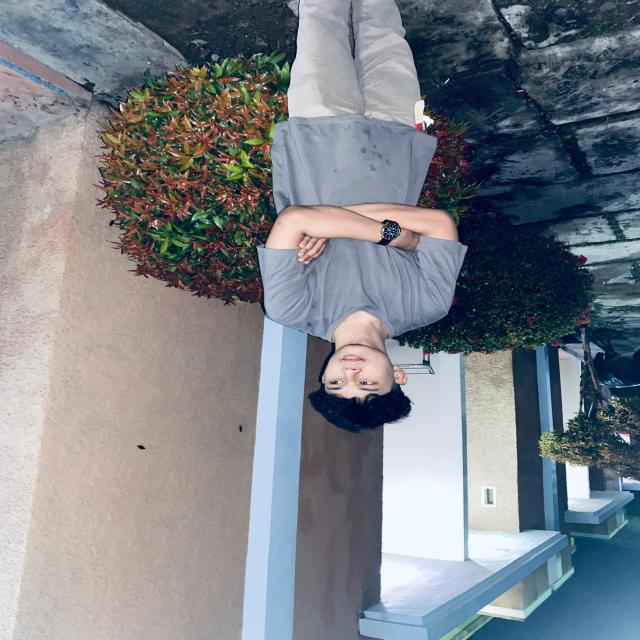nohelmet: (312, 336, 412, 436)
